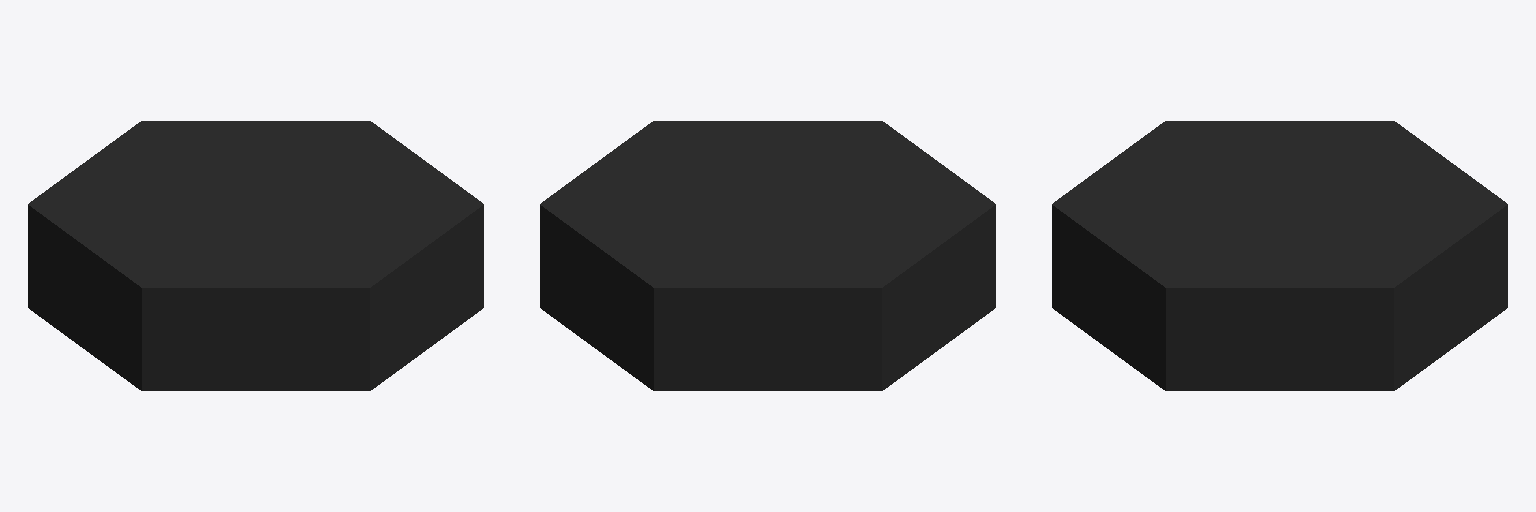
The model's file is nut.obj.
3 renders of one model, left to right at view 1: azimuth 30°, elevation 25°; view 2: azimuth 150°, elevation 25°; view 3: azimuth 270°, elevation 25°, orthographic.
Visible parts, largest first — view 1: Cylinder; view 2: Cylinder; view 3: Cylinder.
Boxes of the visible parts, <box> form: Cylinder: <box>28,121,483,390</box>; Cylinder: <box>540,121,995,390</box>; Cylinder: <box>1052,121,1507,390</box>.
Bounding box in the file's own units: 0.866 × 0.25 × 1.